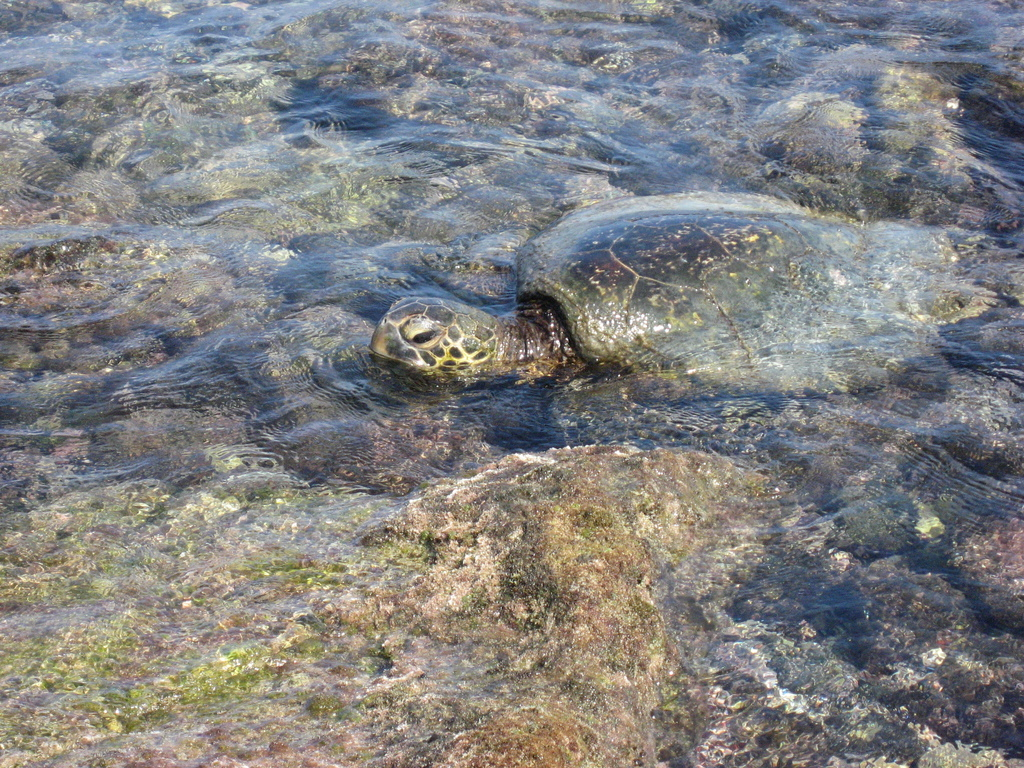Sea turtles: (319, 186, 849, 406)
